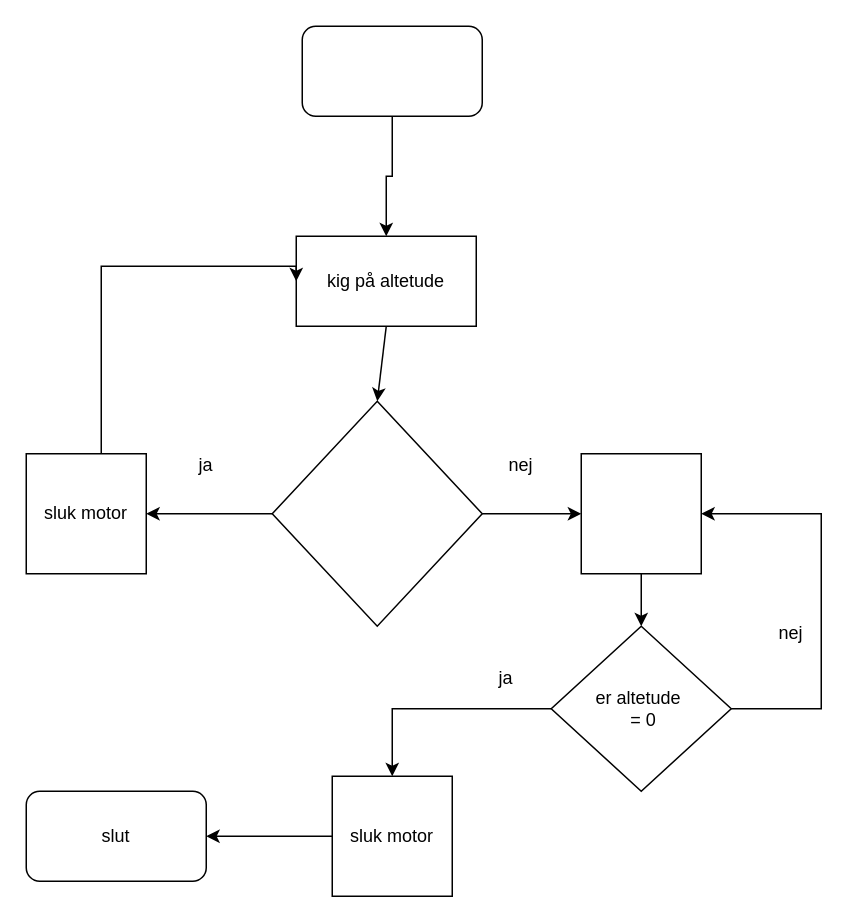
The diagram is 863 pixels wide and 923 high, and some of its shapes have lost their labels. Each missing label, with the centre of its shape:
"er altetude højder end 100?" belongs at [376,513].
"start" belongs at [391,70].
"tænd motor" belongs at [640,513].
